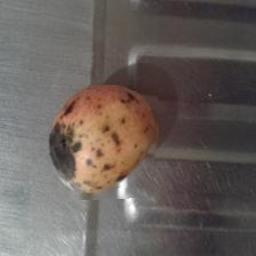Mango Rotten: (41, 85, 160, 202)
